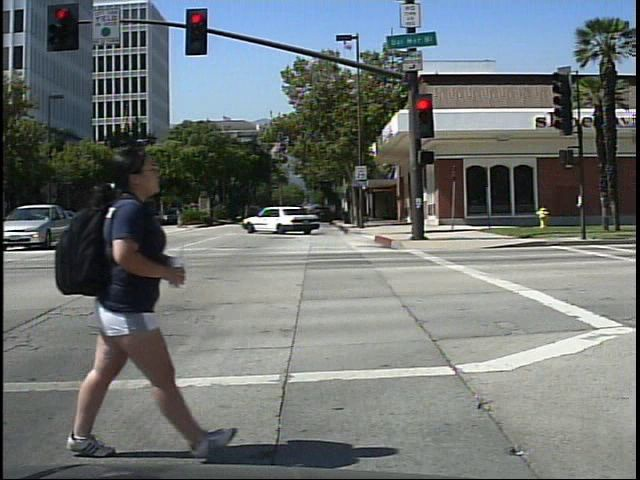person: (52, 128, 220, 467)
